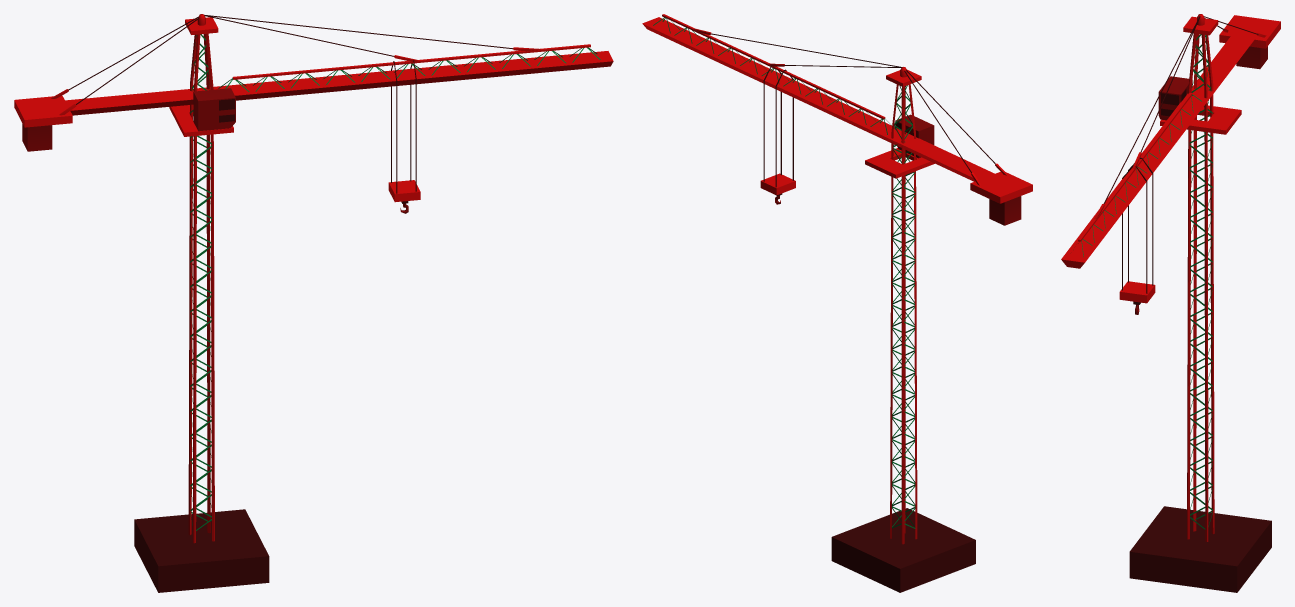
The model's file is Mesh.Crane.fbx.
3 renders of one model, left to right at view 1: azimuth 30°, elevation 25°; view 2: azimuth 150°, elevation 25°; view 3: azimuth 270°, elevation 25°, orthographic. The views are drawn at different scales.
Parts seen in each view (by area): view 1: base.020, DblSided.001; view 2: base.020, DblSided.001; view 3: base.020, DblSided.001.
Part boxes in pixels (bbox=[...]): base.020: bbox=[14, 14, 613, 592]; DblSided.001: bbox=[190, 34, 600, 530]; base.020: bbox=[642, 14, 1032, 592]; DblSided.001: bbox=[653, 17, 915, 528]; base.020: bbox=[1061, 14, 1280, 592]; DblSided.001: bbox=[1078, 34, 1212, 529].
Size of the model in its own units: 2213 by 5896 by 6088.
